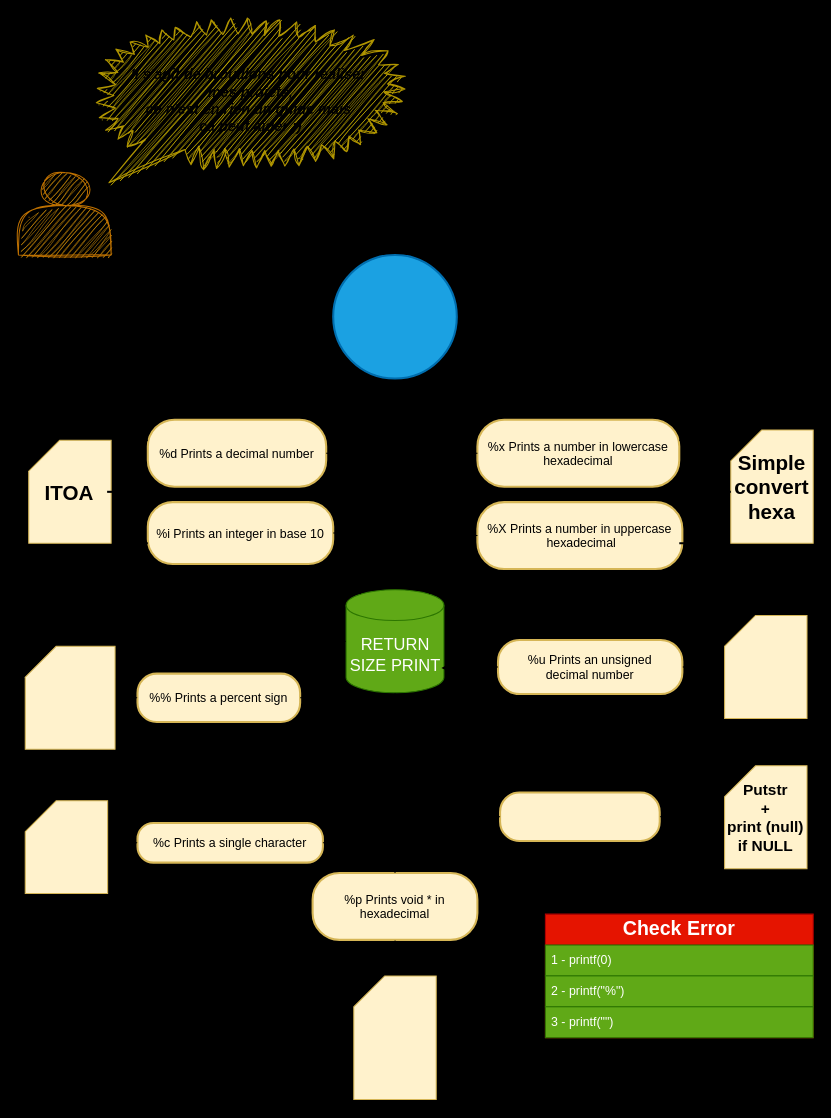
Some shapes in this 831 by 1118 pixel diagram are drawn without their labels. Each missing label, with the centre of its shape:
"%s Prints a string" goes at [579,816].
"ft_printf" goes at [394,316].
"Just print" goes at [69,697].
"Putchar" goes at [66,847].
"Simple putnbr" goes at [765,666].
"Write 0x at start or (nill) if null" goes at [394,1037].
